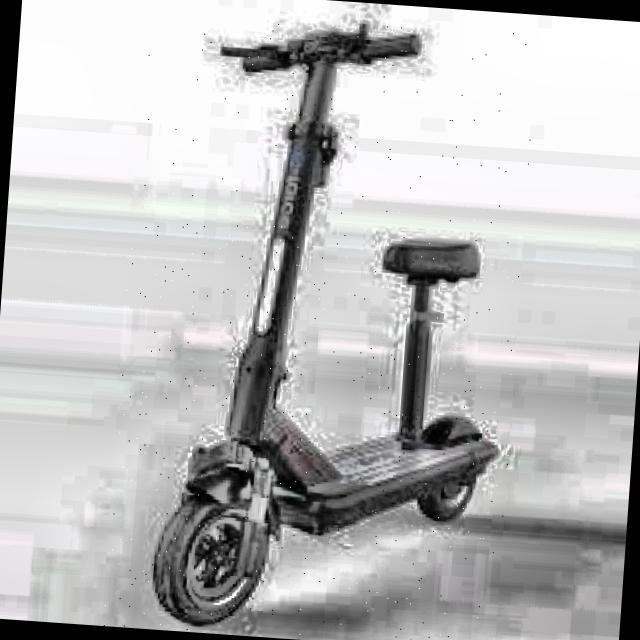bike: (151, 18, 504, 627)
car: (149, 8, 639, 637)
